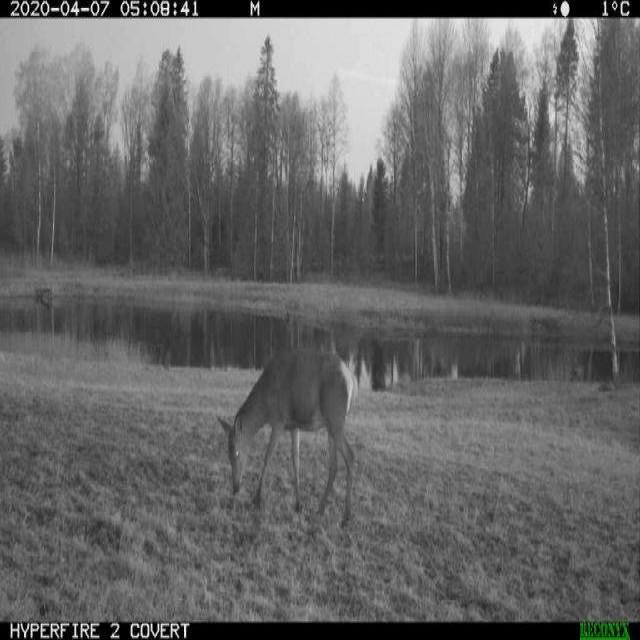deer: (217, 343, 359, 534)
